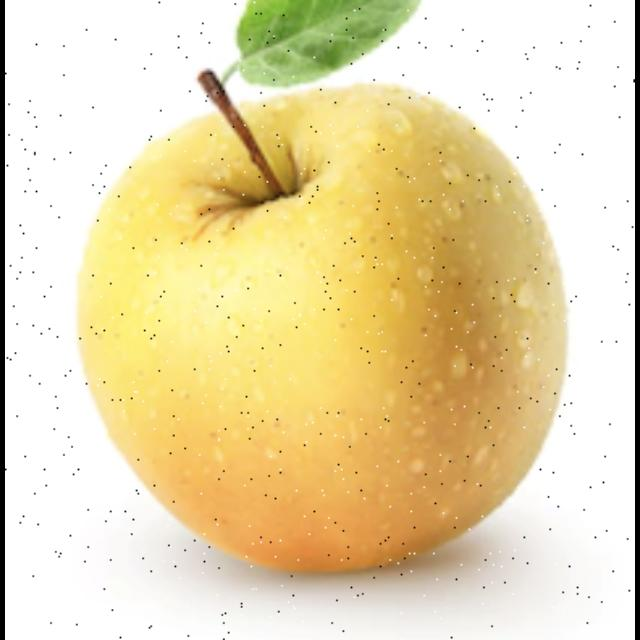Apel Segar: (74, 81, 574, 576)
